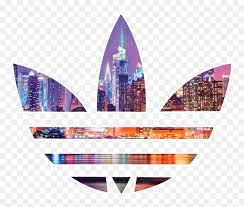adidas: (11, 13, 233, 197)
